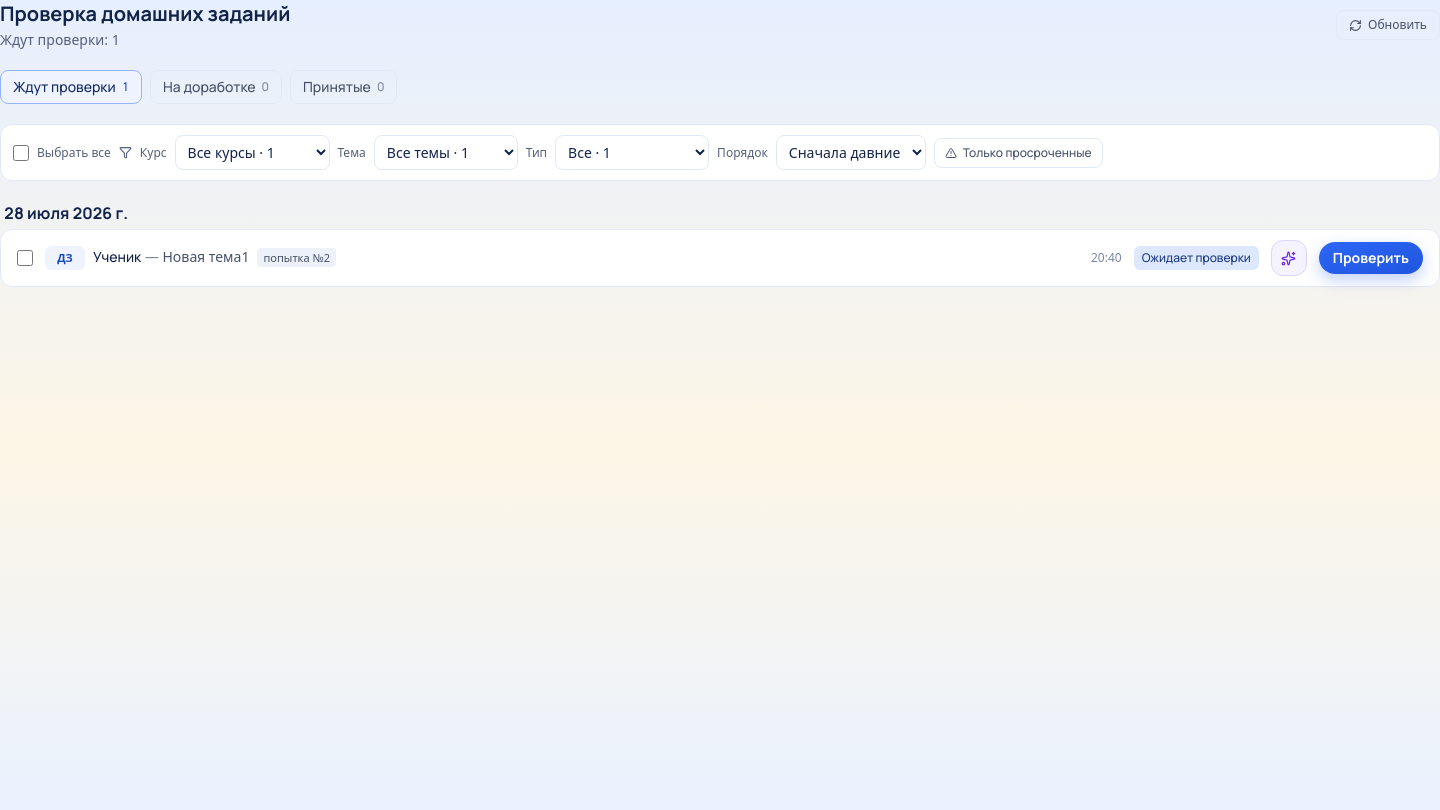
Scenario: HomeworkReviewQueuePage — вкладки состояний › у пересданной работы прошлый вердикт виден над формой проверки
This screenshot has width=1440, height=810.
Step 1. Click the button "Проверить" → {"x": 1371, "y": 258}, box 1319,242 -> 1423,274
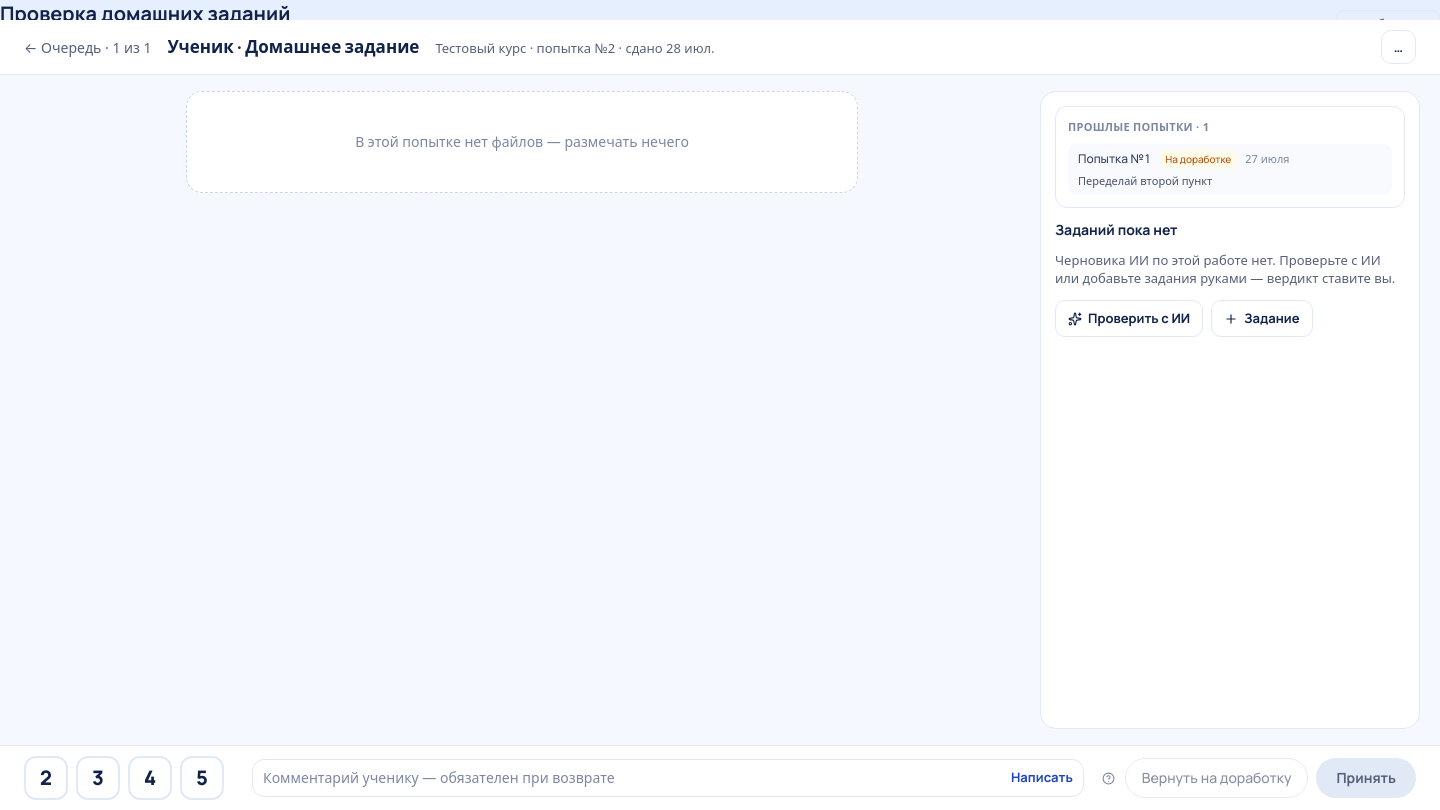
Result: the element with test id "queue-attempt-history" shows "Переделай второй пункт" at 1078,172 -> 1212,188
Result: the button with test id "review-accept-button" is shown at 1316,758 -> 1416,798
